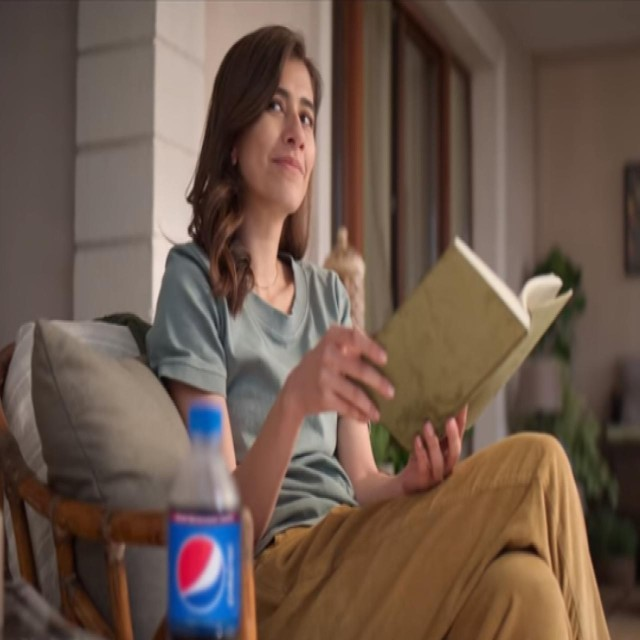pepsi: (175, 533, 231, 615)
